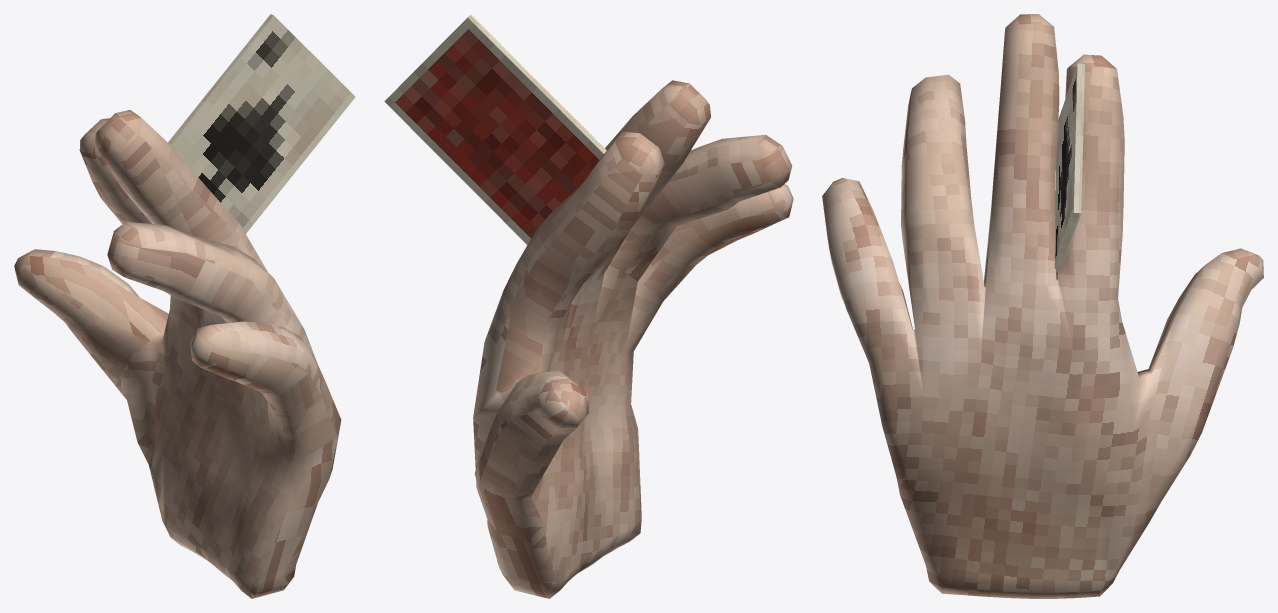
File: HiddenAce.fbx
3 views of the same model, side by side, from view 1: azimuth 30°, elevation 25°; view 2: azimuth 150°, elevation 25°; view 3: azimuth 270°, elevation 25° (orthographic). The views are drawn at different scales.
Parts seen in each view (by area): view 1: HiddenAce_Hand, HiddenAce; view 2: HiddenAce_Hand, HiddenAce; view 3: HiddenAce_Hand, HiddenAce.
Part boxes in pixels (box(x1,y1,x2,y2)): HiddenAce_Hand: box(14, 110, 341, 598); HiddenAce: box(168, 14, 355, 233); HiddenAce_Hand: box(473, 80, 793, 598); HiddenAce: box(384, 14, 606, 244); HiddenAce_Hand: box(822, 14, 1263, 598); HiddenAce: box(1054, 63, 1084, 272).
Size of the model in its own units: 10.21 by 16.3 by 11.66.
